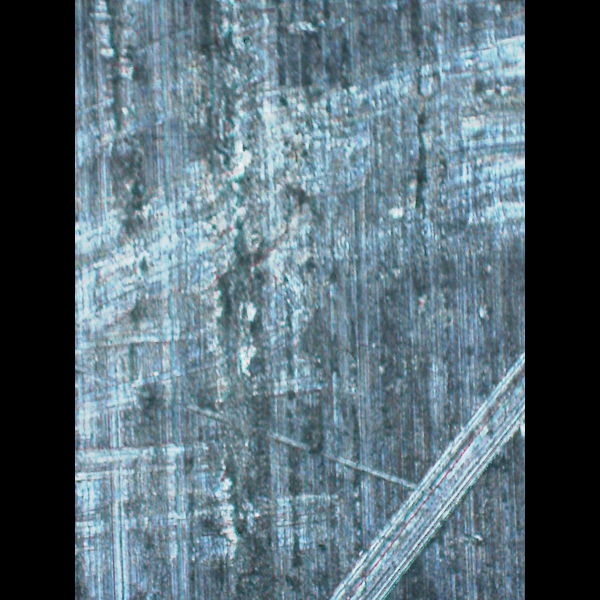d: (75, 10, 523, 363), (322, 345, 524, 600)
